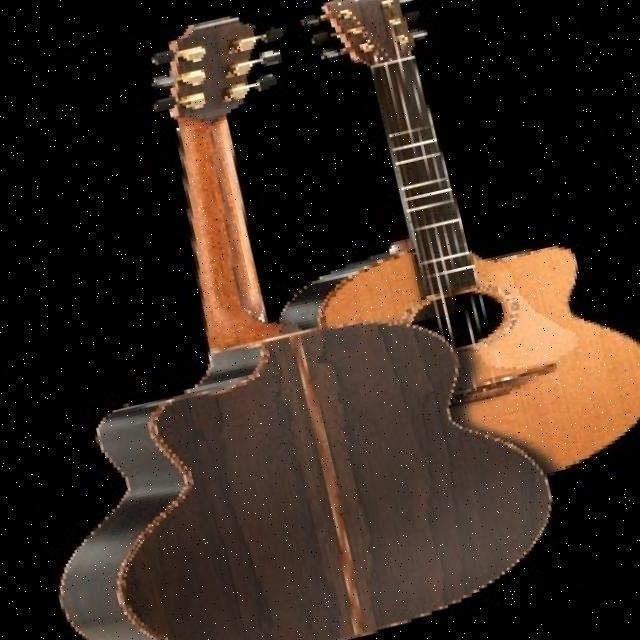guitar: (0, 0, 574, 640), (211, 0, 640, 639)
